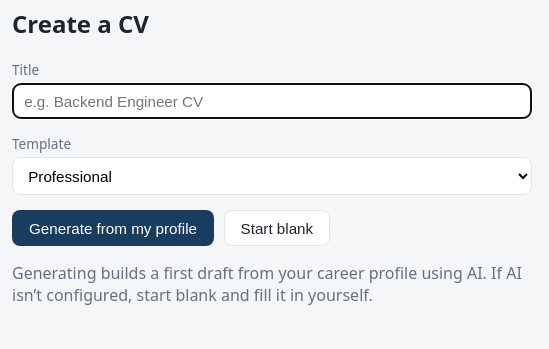
Test: <CreateCV /> › requires a title
Click the button "Generate from my profile".
click(113, 228)  # box [12,210,214,246]
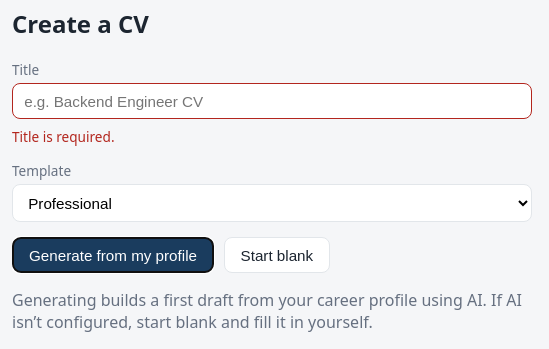
Expected: the text "Title is required." is shown, [12,127,114,146]
